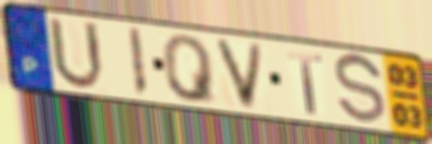I: (125, 25, 150, 100)
Q: (159, 34, 220, 107)
S: (332, 52, 388, 129)
T: (285, 49, 326, 117)
U: (45, 13, 107, 93)
V: (211, 36, 267, 113)
